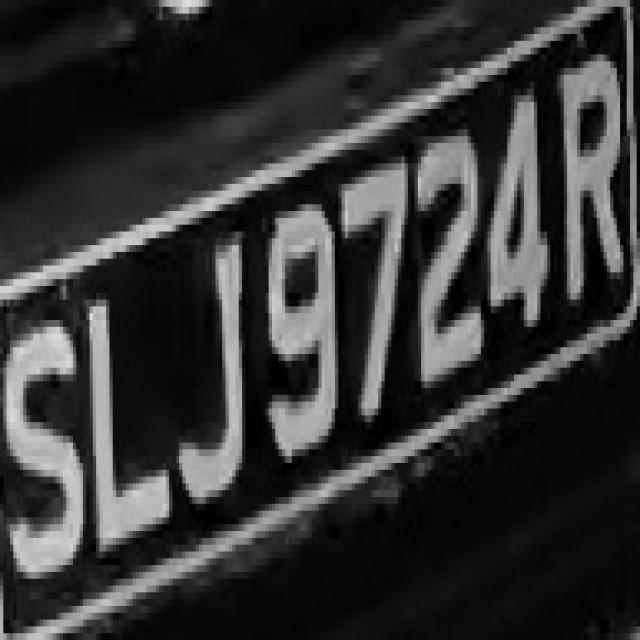2: (404, 129, 490, 402)
4: (481, 75, 557, 361)
7: (335, 143, 411, 443)
9: (258, 177, 342, 483)
J: (166, 218, 252, 531)
L: (83, 279, 186, 552)
R: (557, 34, 633, 320)
S: (3, 279, 80, 613)
